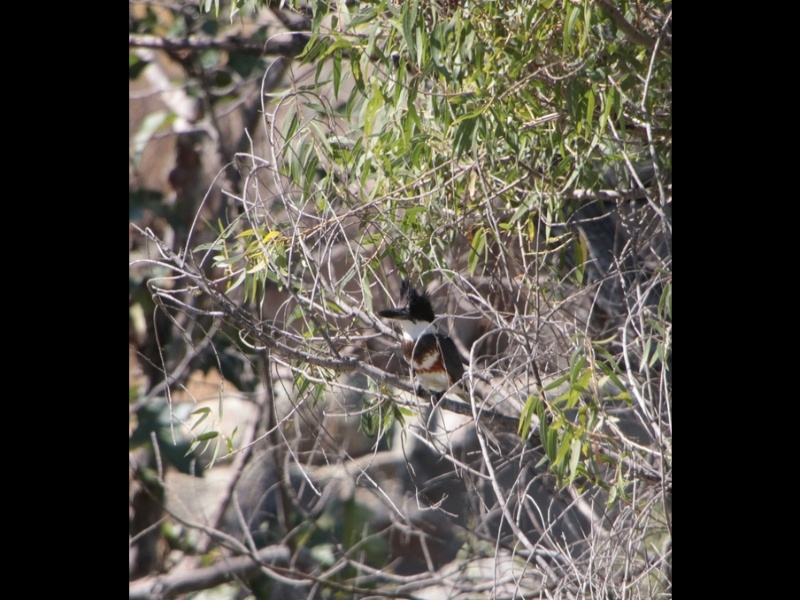kingfisher: (380, 280, 472, 406)
